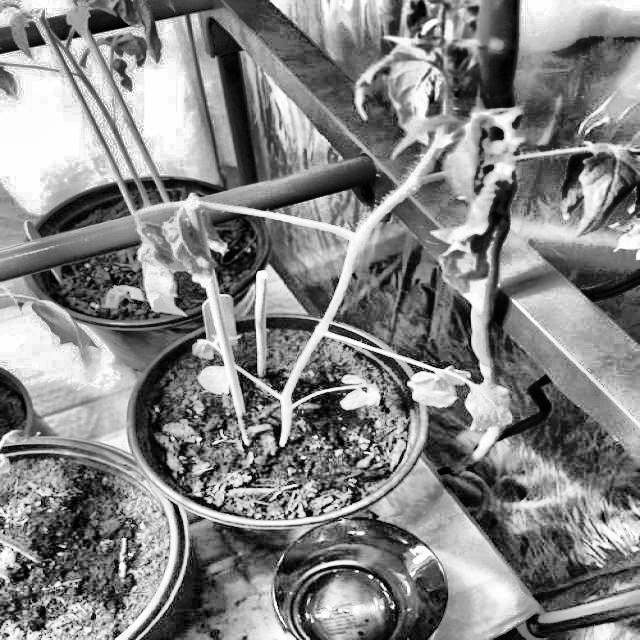plants: (324, 3, 639, 489), (93, 182, 314, 456)
